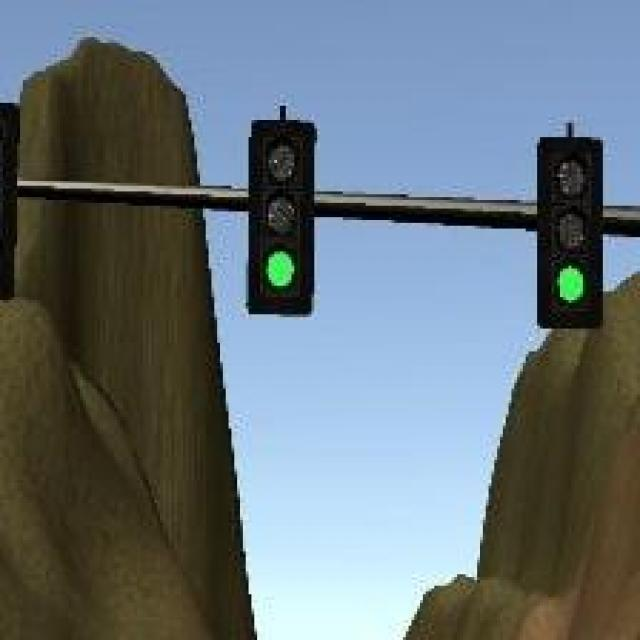green_light: (246, 114, 314, 320), (537, 137, 602, 332)
